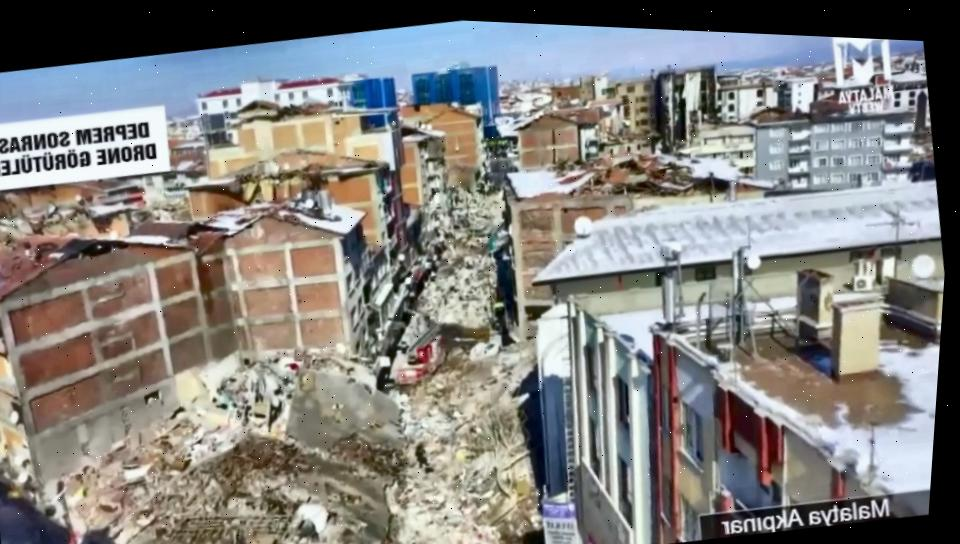kapali: (341, 342, 521, 544), (401, 187, 505, 337)
